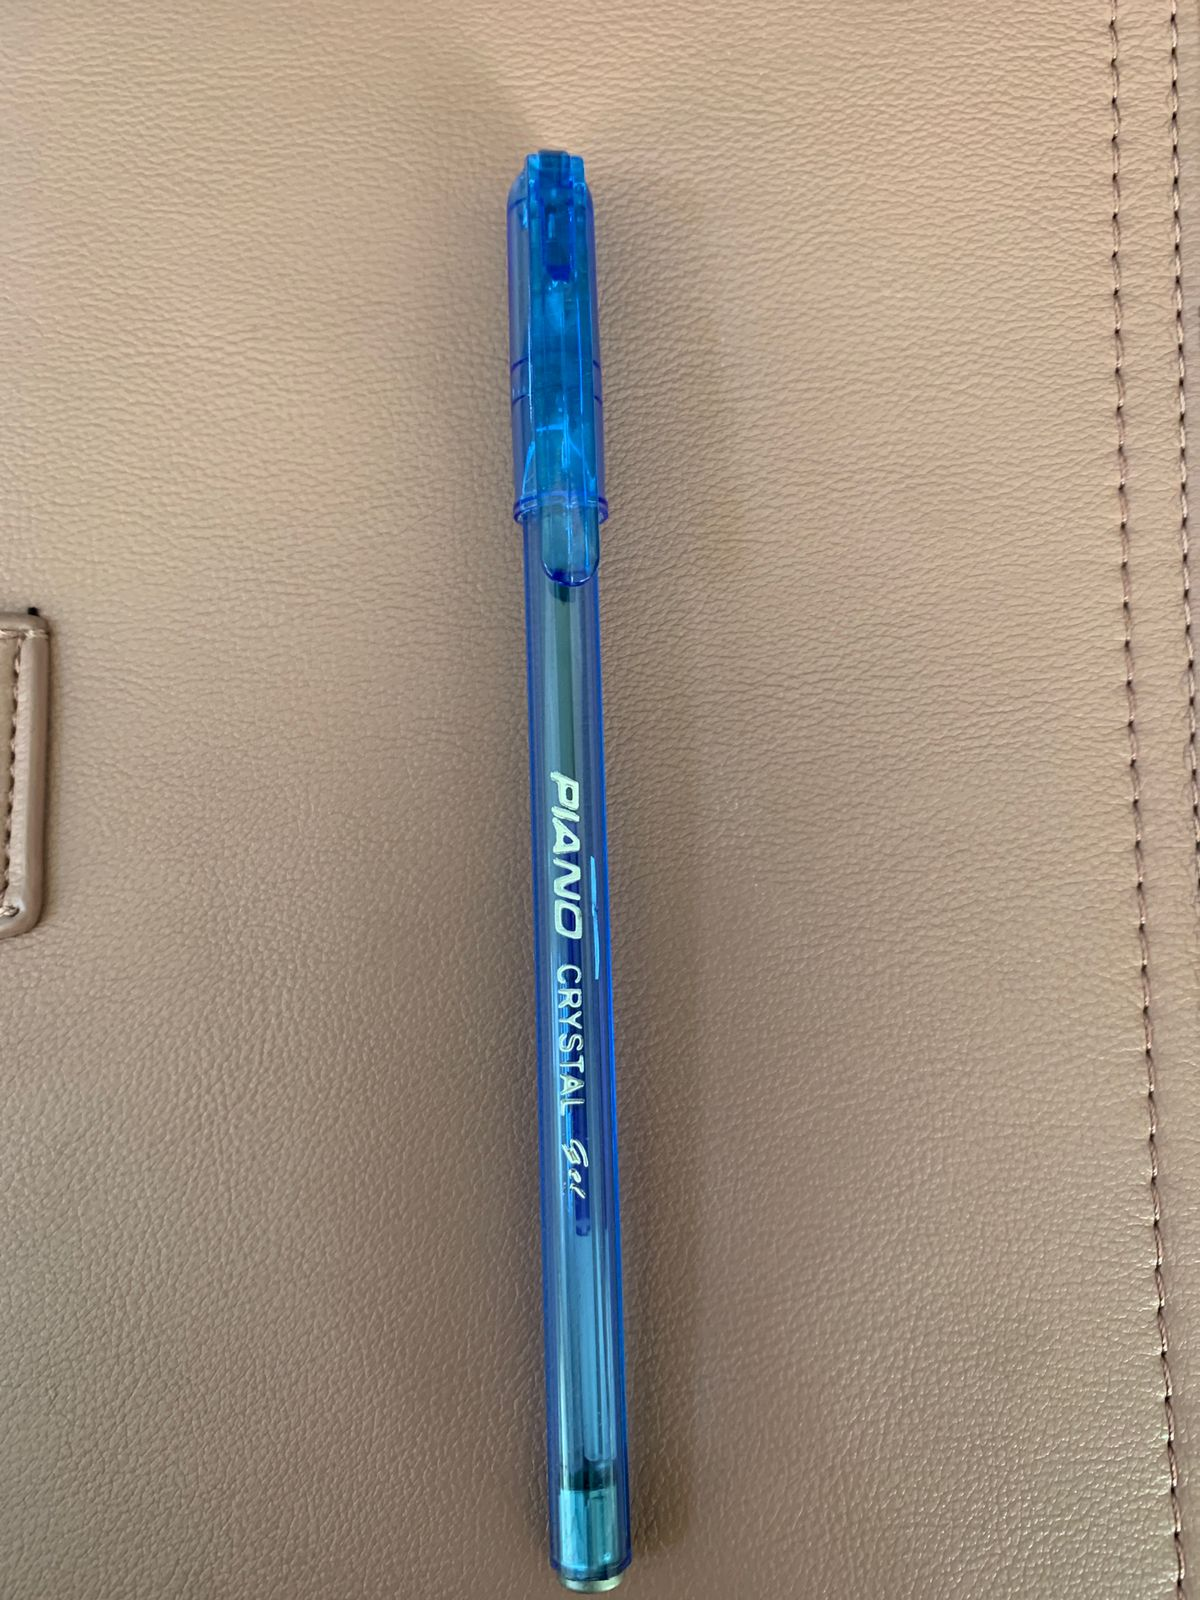pen: (366, 92, 829, 1597)
